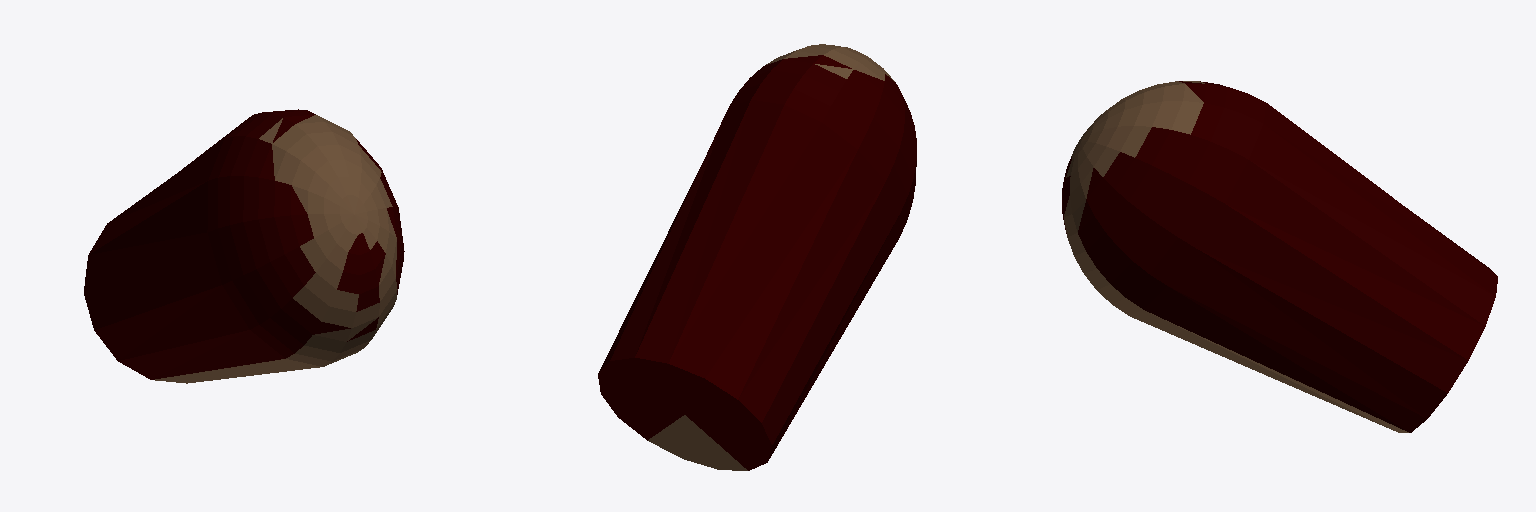
The model's file is e_teil1.obj.
3 renders of one model, left to right at view 1: azimuth 30°, elevation 25°; view 2: azimuth 150°, elevation 25°; view 3: azimuth 270°, elevation 25°, orthographic.
Visible parts, largest first — view 1: e_teil1; view 2: e_teil1; view 3: e_teil1.
Part boxes in pixels (left/top/right/bottom): e_teil1: left=84, top=109, right=404, bottom=383; e_teil1: left=598, top=44, right=916, bottom=470; e_teil1: left=1062, top=81, right=1497, bottom=432.
Bounding box in the file's own units: 0.7063 × 1.37 × 1.61.